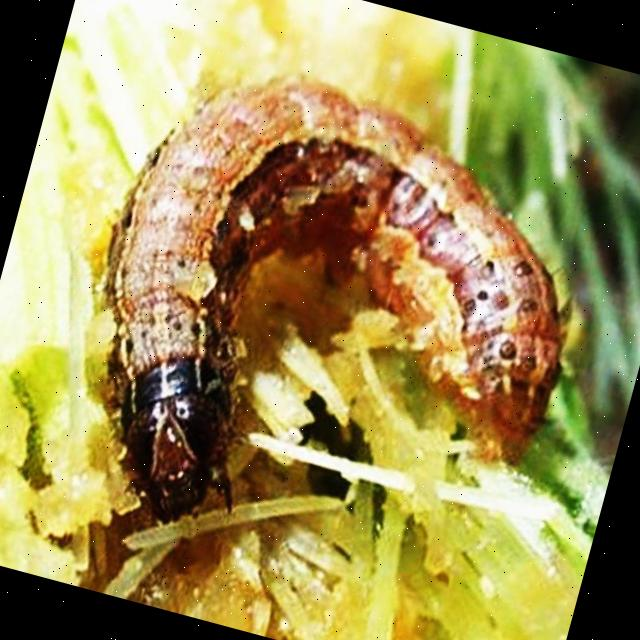worm: (39, 35, 620, 616)
